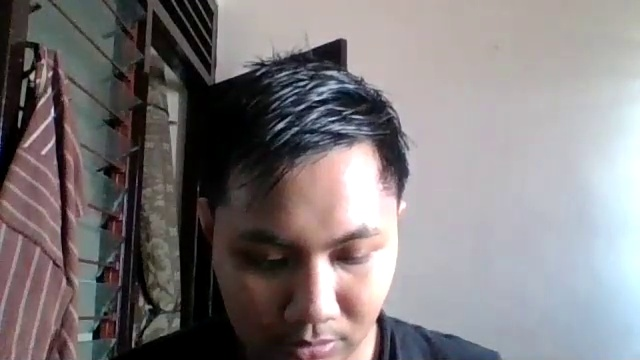Distracted: (195, 122, 411, 360)
